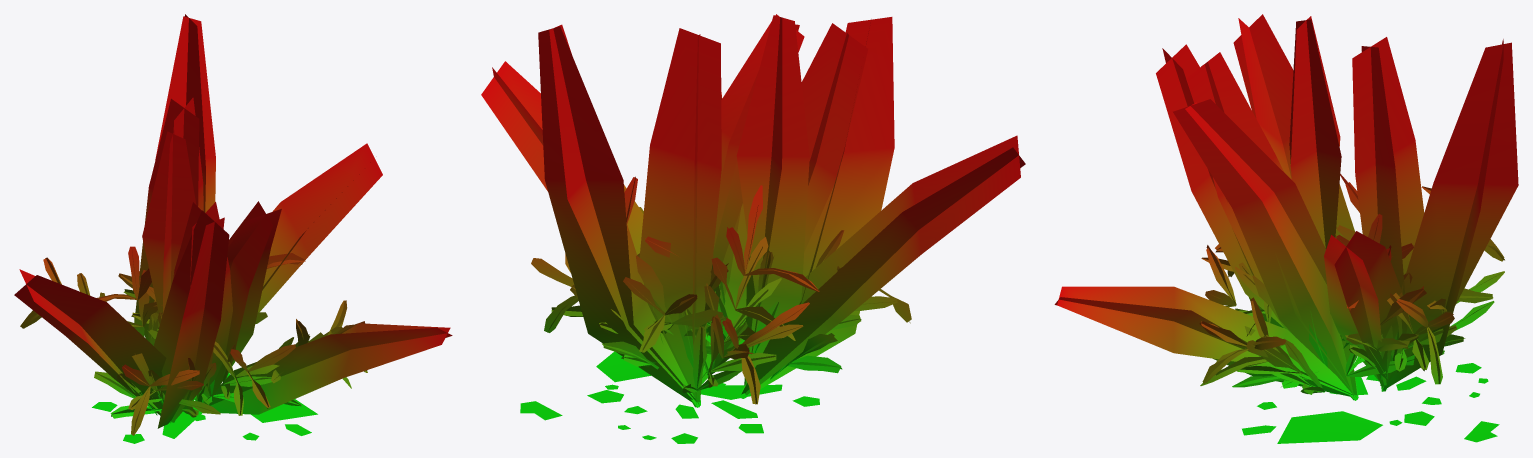
The model's file is River Saltbush_LOD2_Var12_vdfpcgbia.fbx.
The picture shows the model from 3 angles, left to right: view 1: azimuth 30°, elevation 25°; view 2: azimuth 150°, elevation 25°; view 3: azimuth 270°, elevation 25°; orthographic projection. The views are drawn at different scales.
Parts seen in each view (by area): view 1: _5vty_Var12_LOD2; view 2: _5vty_Var12_LOD2; view 3: _5vty_Var12_LOD2.
Boxes of the visible parts, x1,y1,x2,y2 form: _5vty_Var12_LOD2: (14,14,452,443); _5vty_Var12_LOD2: (481,14,1025,443); _5vty_Var12_LOD2: (1054,14,1518,443).
Size of the model in its own units: 20.48 by 16.51 by 17.84.
